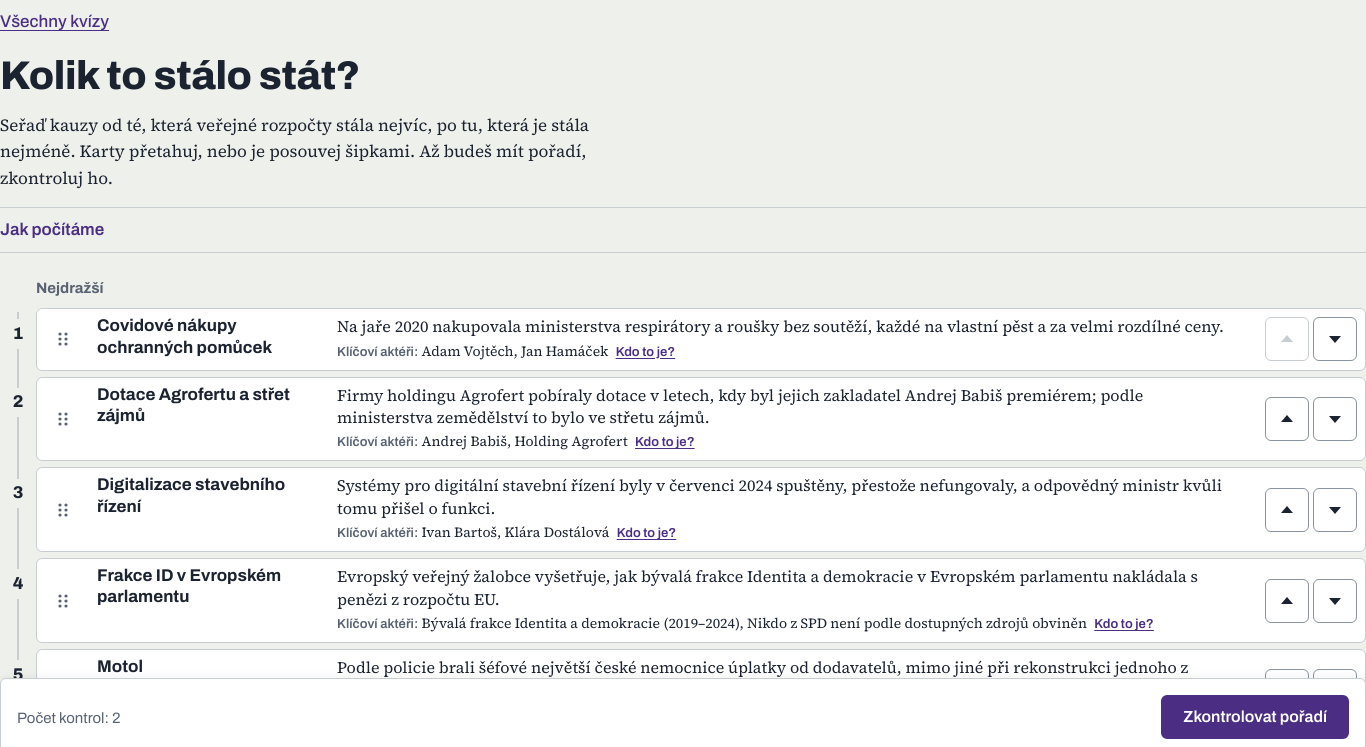
Test: OrderingQuiz › Esc v dialogu funguje jako „Ukázat částky“
Click the button "Zkontrolovat pořadí". click: (1255, 717)
box: [1161,694,1349,739]
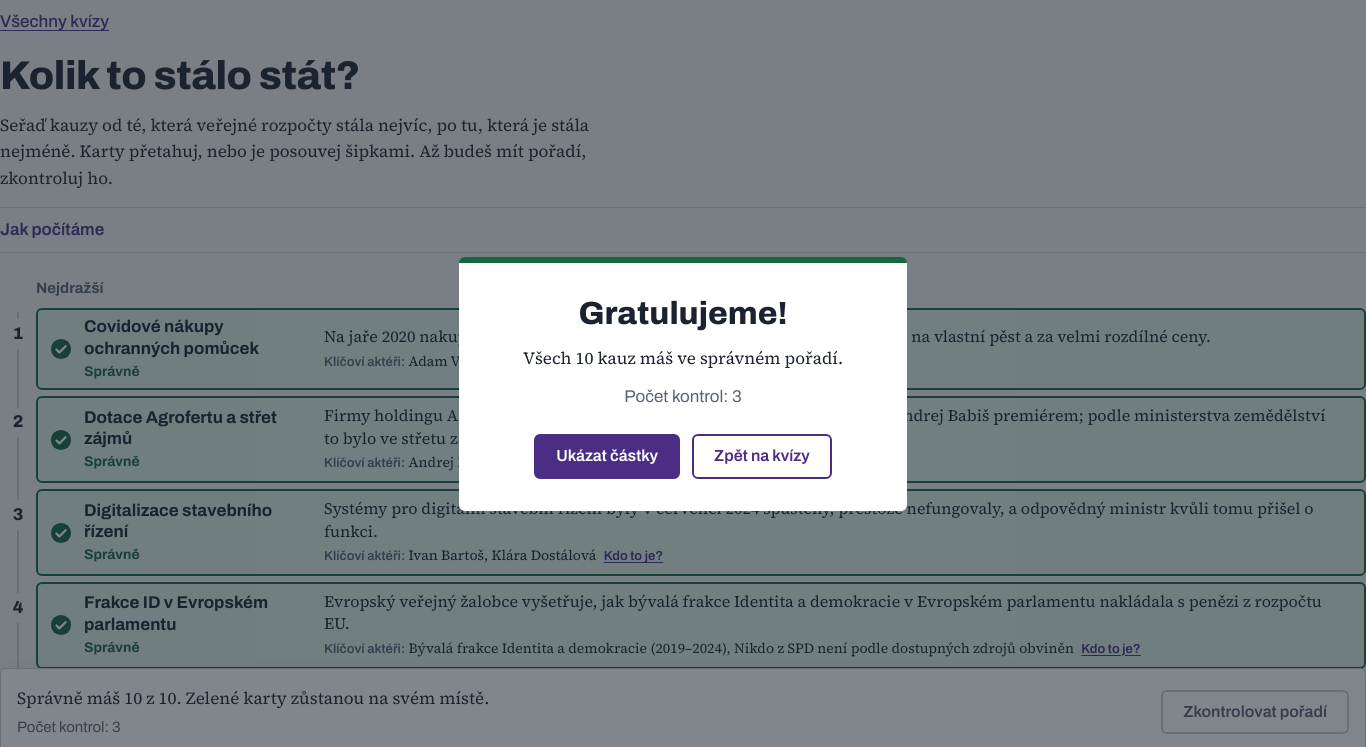
Press Escape
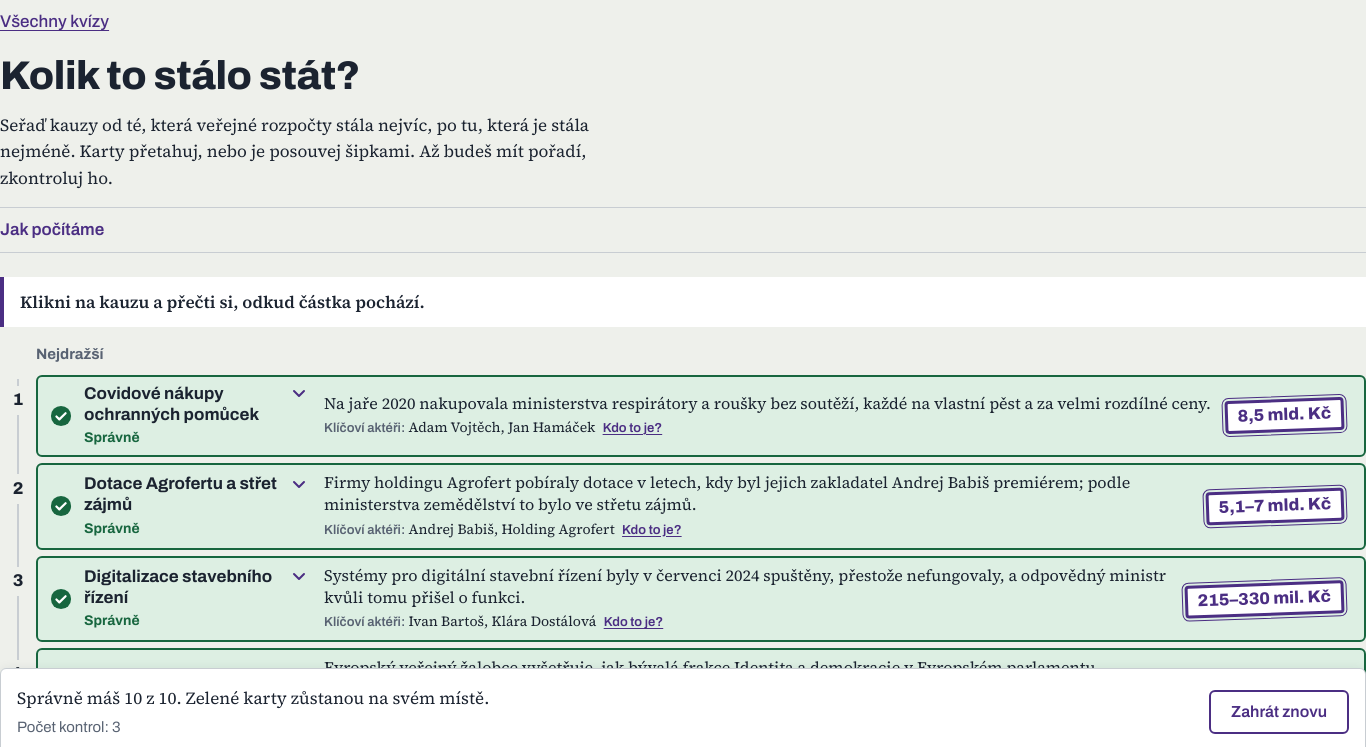
Expected: the dialog is gone
Expected: the text "8,5 mld. Kč" is shown, [1225,397,1344,434]
